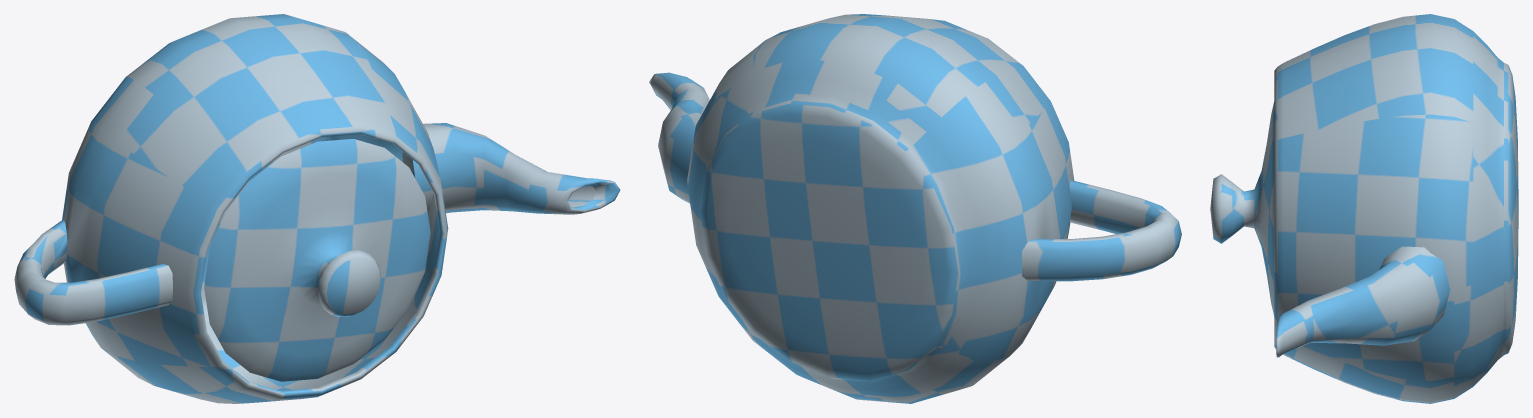
Rendered from teapot.fbx.
The picture shows the model from 3 angles, left to right: view 1: azimuth 30°, elevation 25°; view 2: azimuth 150°, elevation 25°; view 3: azimuth 270°, elevation 25°; orthographic projection. The views are drawn at different scales.
Visible parts, largest first — view 1: teapot_main; view 2: teapot_main; view 3: teapot_main.
Part boxes in pixels (<box>): teapot_main: <box>14,14,620,403</box>; teapot_main: <box>649,14,1181,403</box>; teapot_main: <box>1210,14,1518,403</box>.
Bounding box in the file's own units: 3.22 × 2 × 1.57.
Materials: 1 (1 with a texture image).
